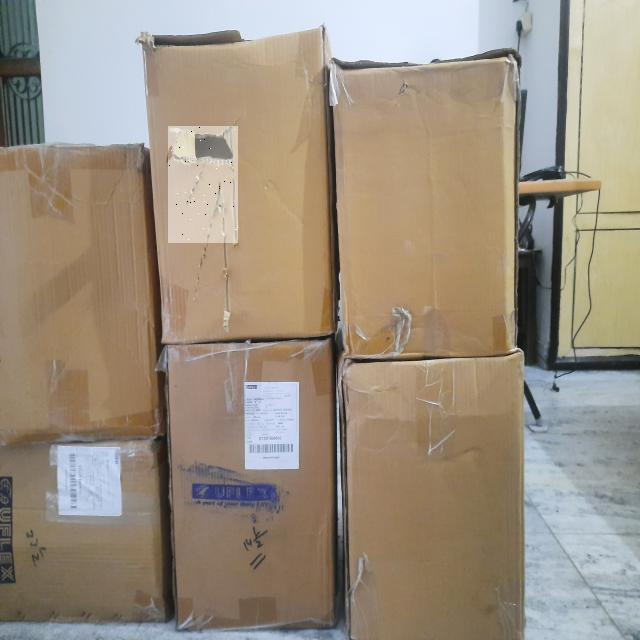leakage: (168, 127, 238, 241), (169, 127, 234, 189)
